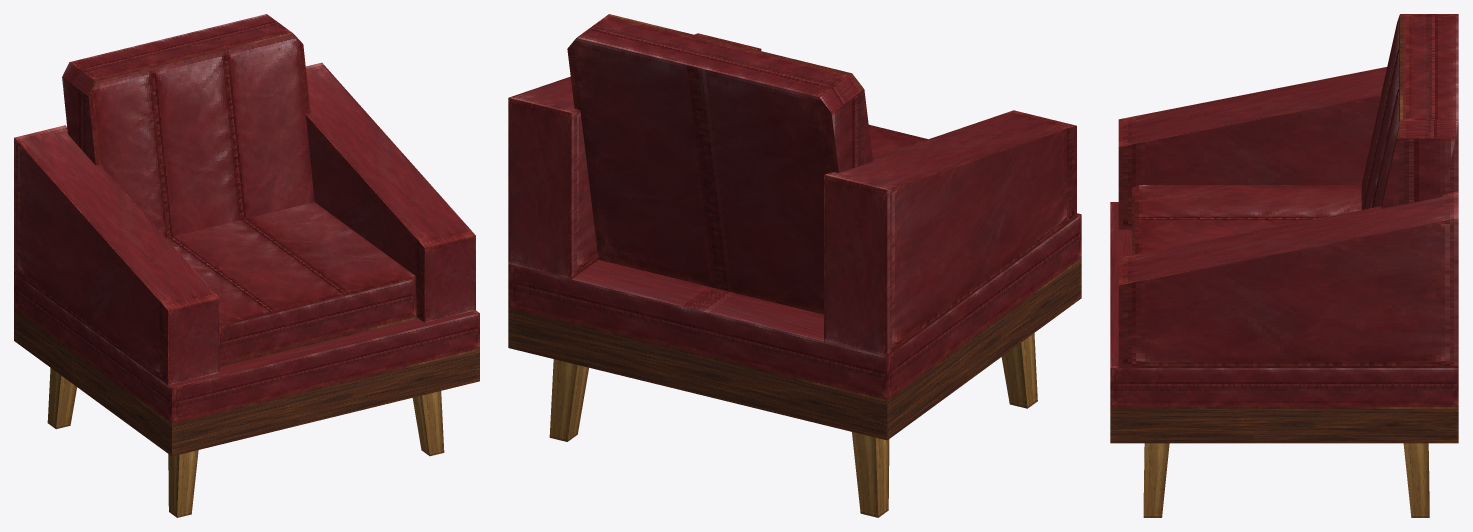
The model's file is casino-lounge-chair.glb.
3 renders of one model, left to right at view 1: azimuth 30°, elevation 25°; view 2: azimuth 150°, elevation 25°; view 3: azimuth 270°, elevation 25°, orthographic. The views are drawn at different scales.
Parts seen in each view (by area): view 1: casino-lounge-chair; view 2: casino-lounge-chair; view 3: casino-lounge-chair.
Boxes of the visible parts, <box> form: casino-lounge-chair: <box>14,14,479,517</box>; casino-lounge-chair: <box>508,14,1081,517</box>; casino-lounge-chair: <box>1110,14,1458,517</box>.
Bounding box in the file's own units: 0.935 × 0.995 × 0.83.
1 material, 1 textured.
